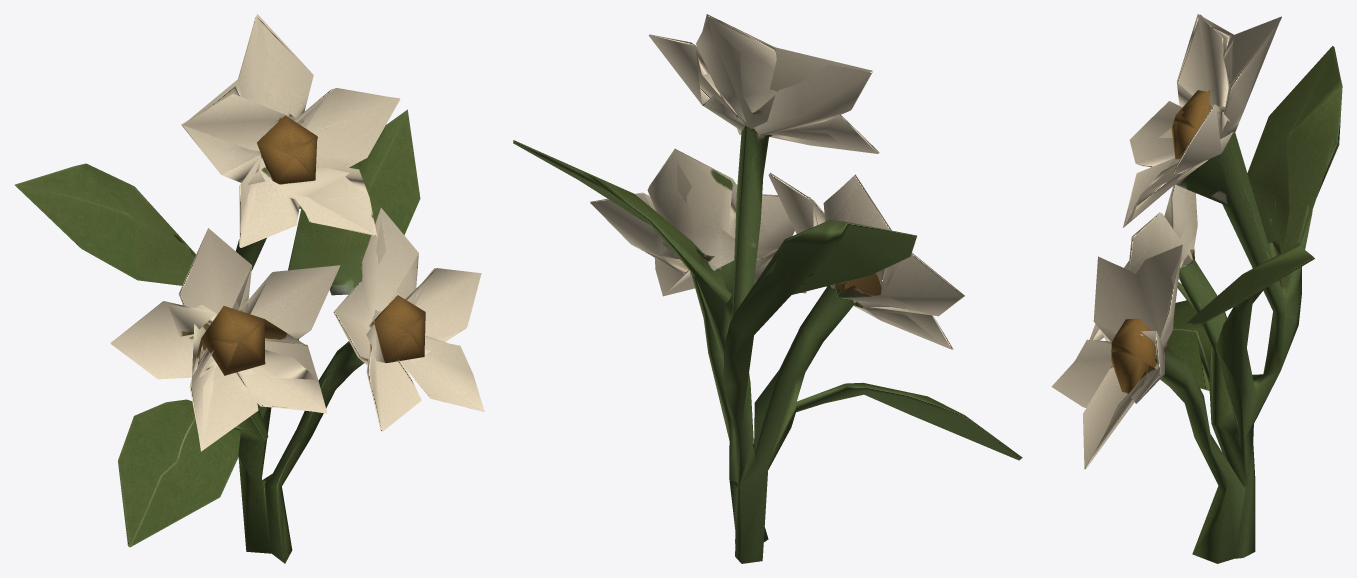
File: AW-FLOWER-002-v0.2.glb
The picture shows the model from 3 angles, left to right: view 1: azimuth 30°, elevation 25°; view 2: azimuth 150°, elevation 25°; view 3: azimuth 270°, elevation 25°; orthographic projection. The views are drawn at different scales.
Visible parts, largest first — view 1: AW-FLOWER-002_meter_ground_pivot; view 2: AW-FLOWER-002_meter_ground_pivot; view 3: AW-FLOWER-002_meter_ground_pivot.
Part boxes in pixels (bbox=[...]): AW-FLOWER-002_meter_ground_pivot: bbox=[14, 14, 484, 563]; AW-FLOWER-002_meter_ground_pivot: bbox=[513, 14, 1022, 563]; AW-FLOWER-002_meter_ground_pivot: bbox=[1051, 14, 1342, 563].
Bounding box in the file's own units: 0.3915 × 0.5 × 0.2418.
Materials: 1 (1 with a texture image).
